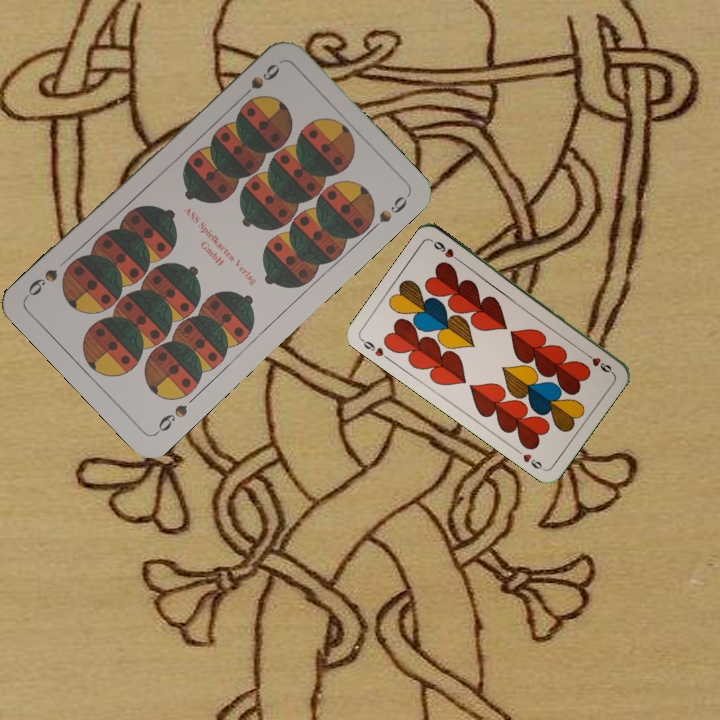H9: (357, 335, 393, 363), (580, 348, 615, 376)
S9: (235, 59, 283, 104), (151, 400, 190, 437)
